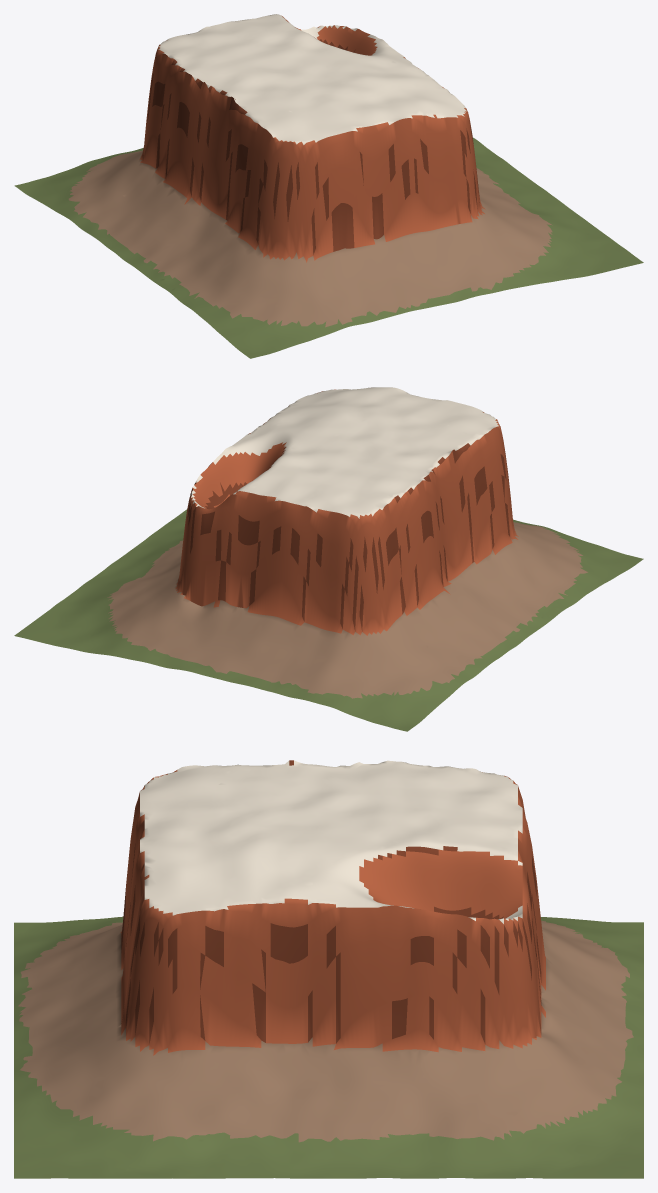
File: landmark-mesa-hi.glb
3 views of the same model, one above another, from view 1: azimuth 30°, elevation 25°; view 2: azimuth 150°, elevation 25°; view 3: azimuth 270°, elevation 25° (orthographic). The views are drawn at different scales.
Parts seen in each view (by area): view 1: mesa.001; view 2: mesa.001; view 3: mesa.001.
Part boxes in pixels (x1=…): mesa.001: x1=14, y1=14, x2=643, y2=358; mesa.001: x1=14, y1=387, x2=643, y2=731; mesa.001: x1=14, y1=760, x2=643, y2=1178.
Size of the model in its own units: 2.51 by 1 by 2.61.
